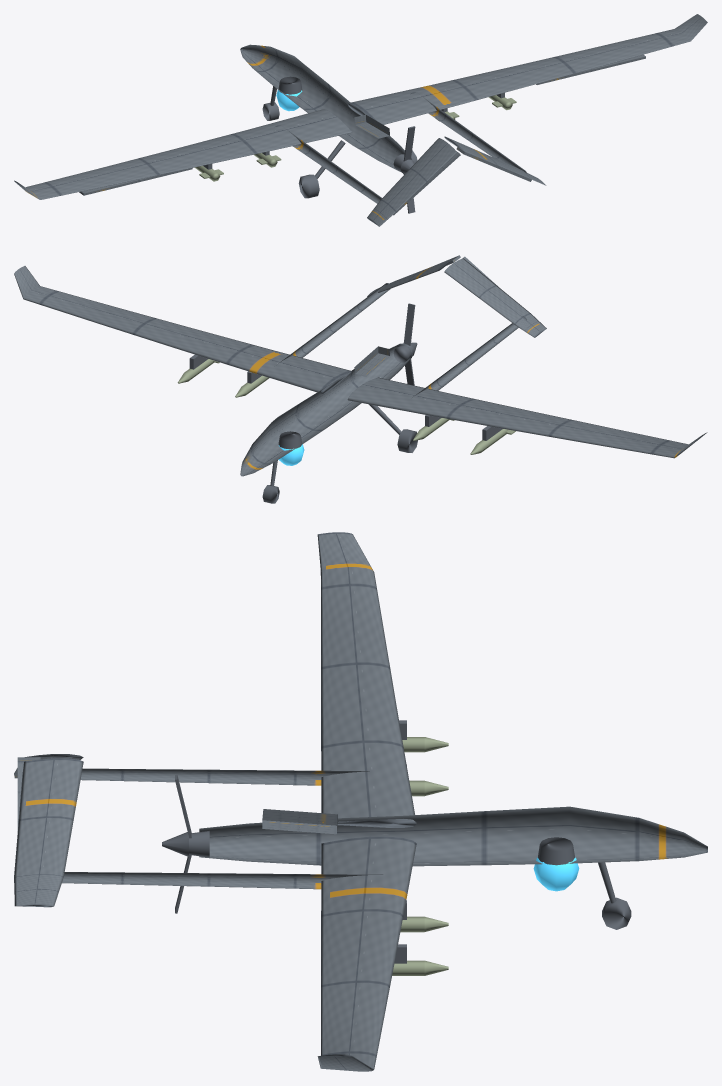
Rendered from bayraktar_tb2_lod1.glb.
3 renders of one model, top to bottom at view 1: azimuth 30°, elevation 25°; view 2: azimuth 150°, elevation 25°; view 3: azimuth 270°, elevation 25°, orthographic. The views are drawn at different scales.
Parts seen in each view (by area): view 1: airframe_hull, propeller_assembly, aileron_port, aileron_stbd; view 2: airframe_hull, propeller_assembly; view 3: airframe_hull, eoir_turret, propeller_assembly.
Boxes of the visible parts, box(x1,y1,x2,y2) form: airframe_hull: box(14, 14, 707, 226); propeller_assembly: box(400, 126, 415, 213); aileron_port: box(79, 168, 192, 195); aileron_stbd: box(536, 54, 645, 84); airframe_hull: box(14, 257, 707, 503); propeller_assembly: box(403, 303, 417, 385); airframe_hull: box(14, 532, 707, 1071); eoir_turret: box(533, 857, 579, 891); propeller_assembly: box(162, 774, 191, 913).
Size of the model in its own units: 11.9 by 1.84 by 6.69.
Materials: 4 (1 with a texture image).
